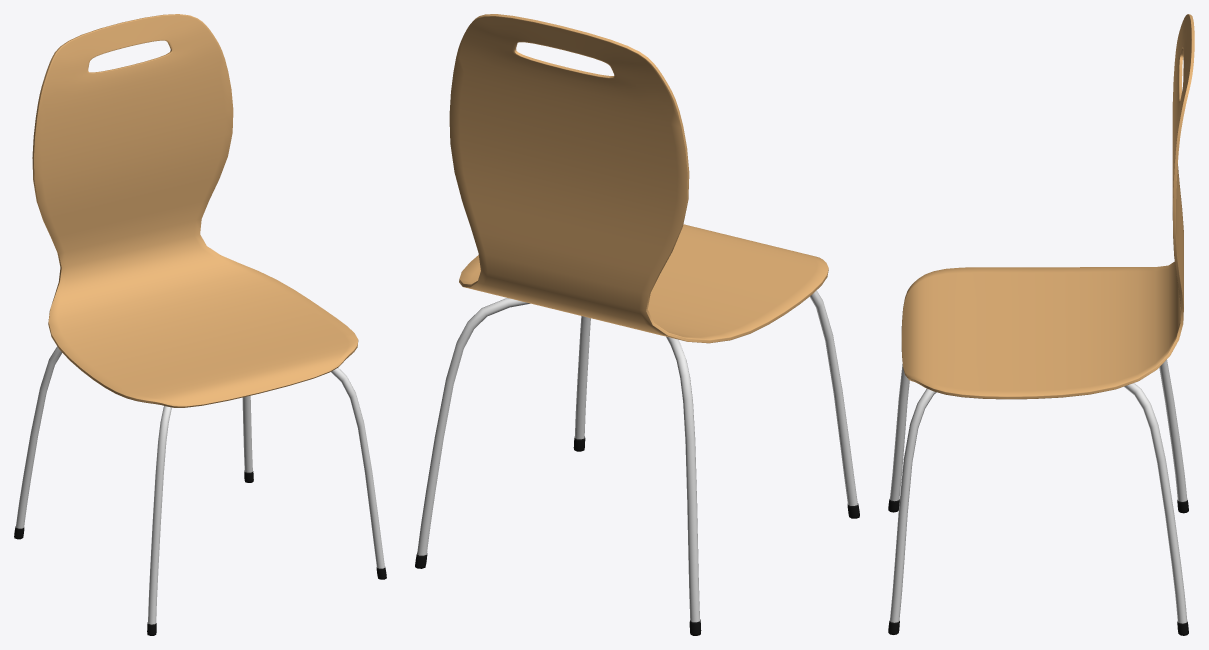
File: MshPropChair.fbx
The picture shows the model from 3 angles, left to right: view 1: azimuth 30°, elevation 25°; view 2: azimuth 150°, elevation 25°; view 3: azimuth 270°, elevation 25°; orthographic projection. The views are drawn at different scales.
Parts seen in each view (by area): view 1: ChairMesh; view 2: ChairMesh; view 3: ChairMesh.
Boxes of the visible parts, left/top/right/bottom form: ChairMesh: left=14, top=14, right=386, bottom=635; ChairMesh: left=415, top=14, right=859, bottom=635; ChairMesh: left=888, top=14, right=1194, bottom=635.
Size of the model in its own units: 104 by 198 by 104.
